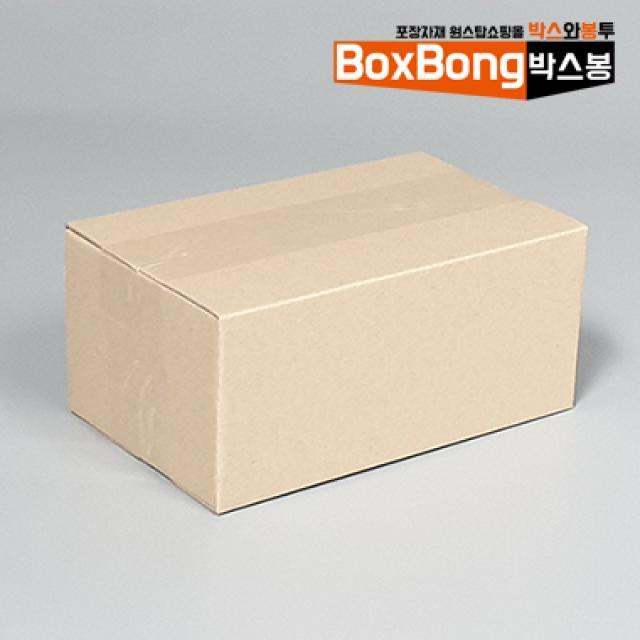box: (65, 149, 589, 517)
